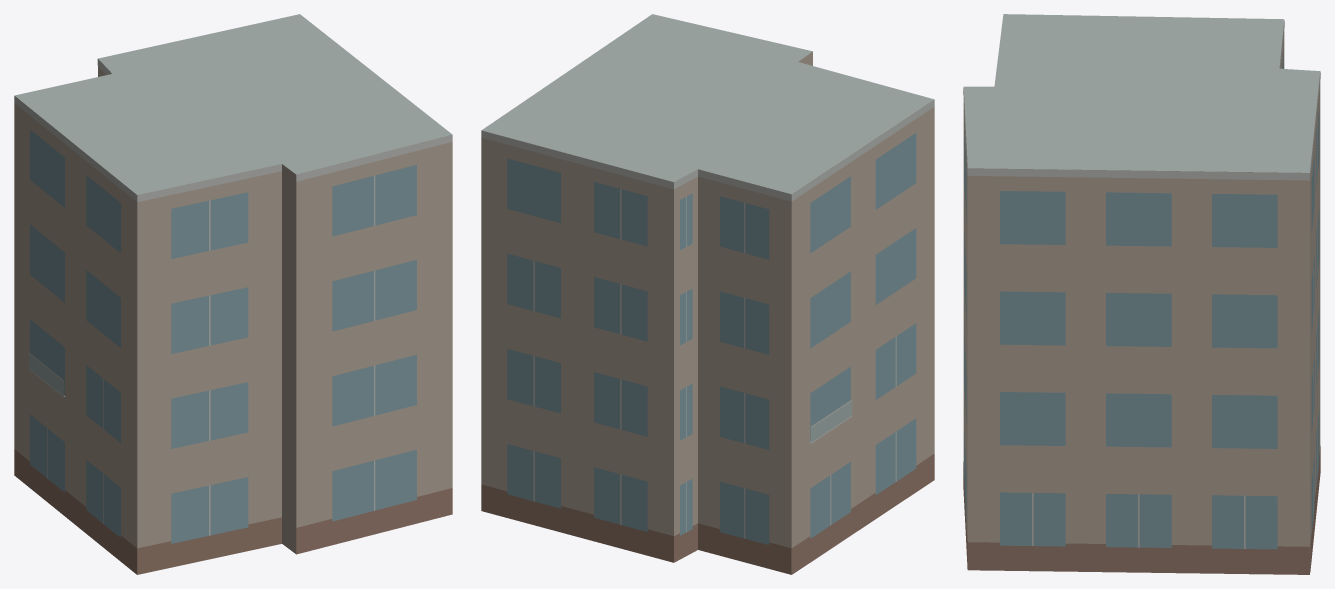
Rendered from survey-upis-32476450.glb.
The picture shows the model from 3 angles, left to right: view 1: azimuth 30°, elevation 25°; view 2: azimuth 150°, elevation 25°; view 3: azimuth 270°, elevation 25°; orthographic projection. The views are drawn at different scales.
Parts seen in each view (by area): view 1: survey-upis-32476450.tmp; view 2: survey-upis-32476450.tmp; view 3: survey-upis-32476450.tmp.
Part boxes in pixels (x1,y1,x2,y2): survey-upis-32476450.tmp: (14, 14, 452, 574); survey-upis-32476450.tmp: (481, 14, 934, 574); survey-upis-32476450.tmp: (963, 14, 1320, 574).
Size of the model in its own units: 10.92 by 12.87 by 10.36.
